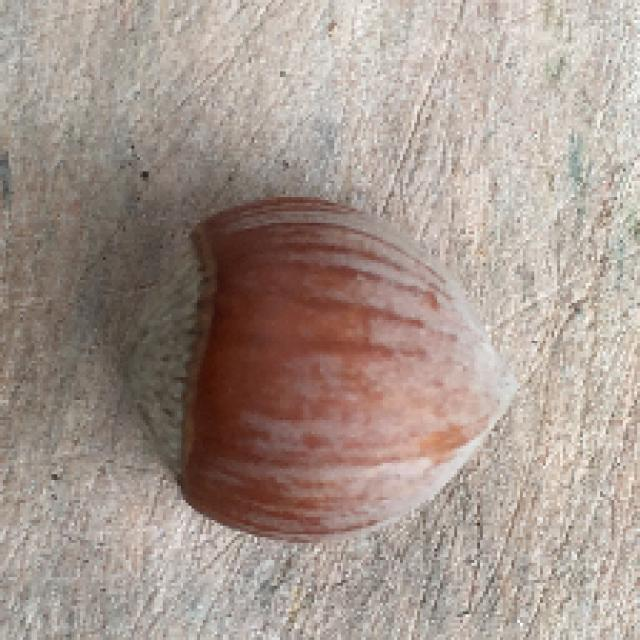qualityHazelnut: (110, 189, 531, 546)
